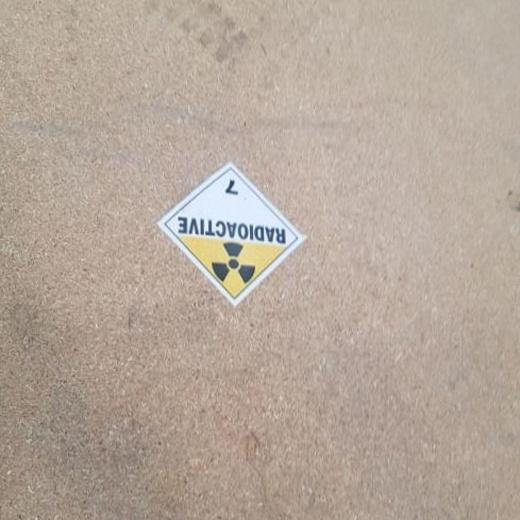radioactive: (156, 159, 302, 302)
